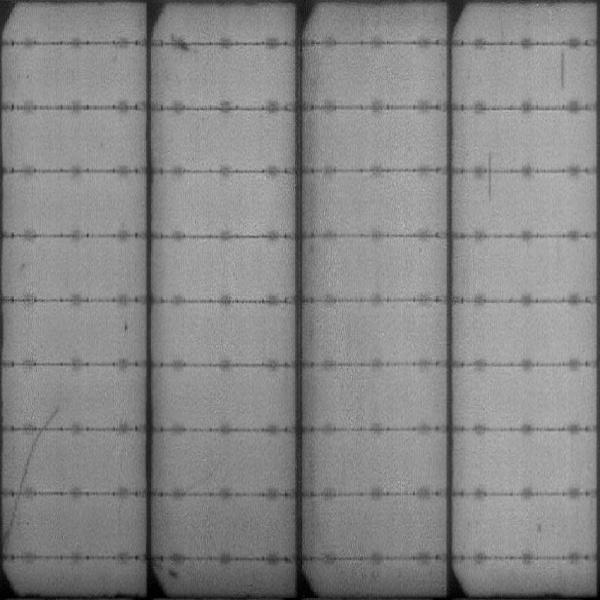scratch: (17, 407, 64, 491), (1, 495, 23, 549), (554, 50, 568, 90), (485, 153, 496, 197)
